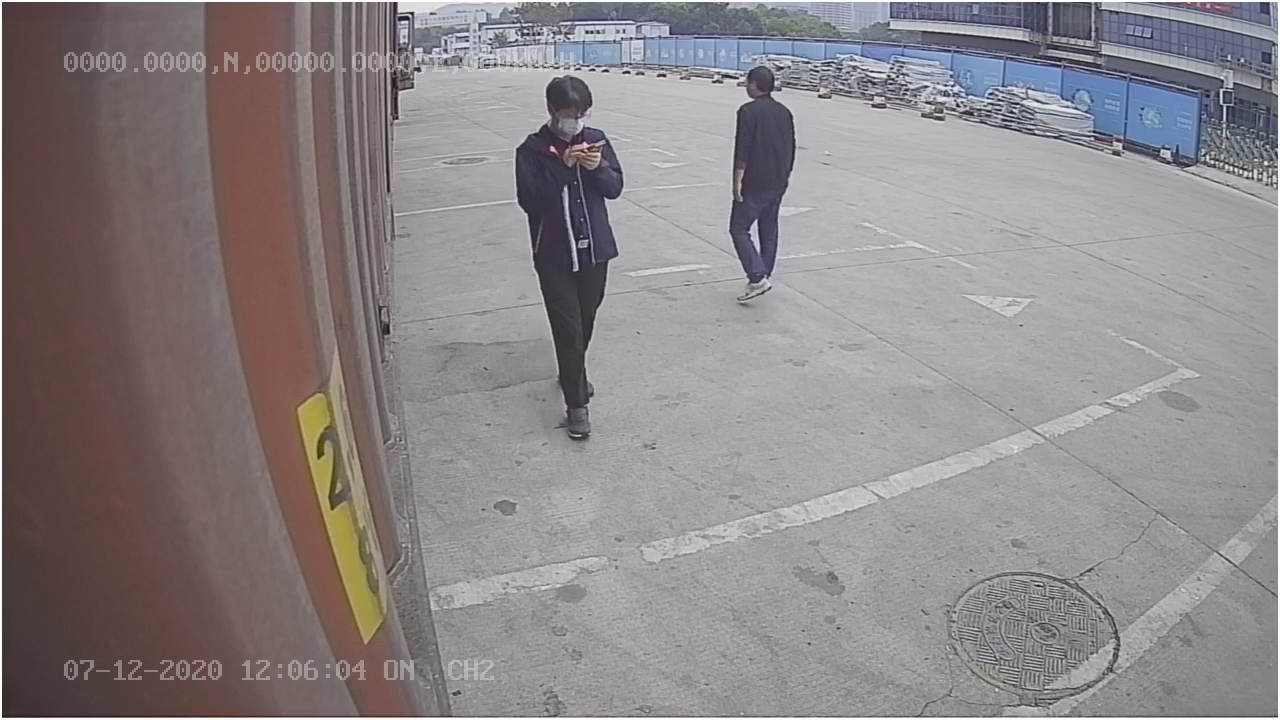person: (513, 72, 625, 440), (724, 59, 794, 302)
